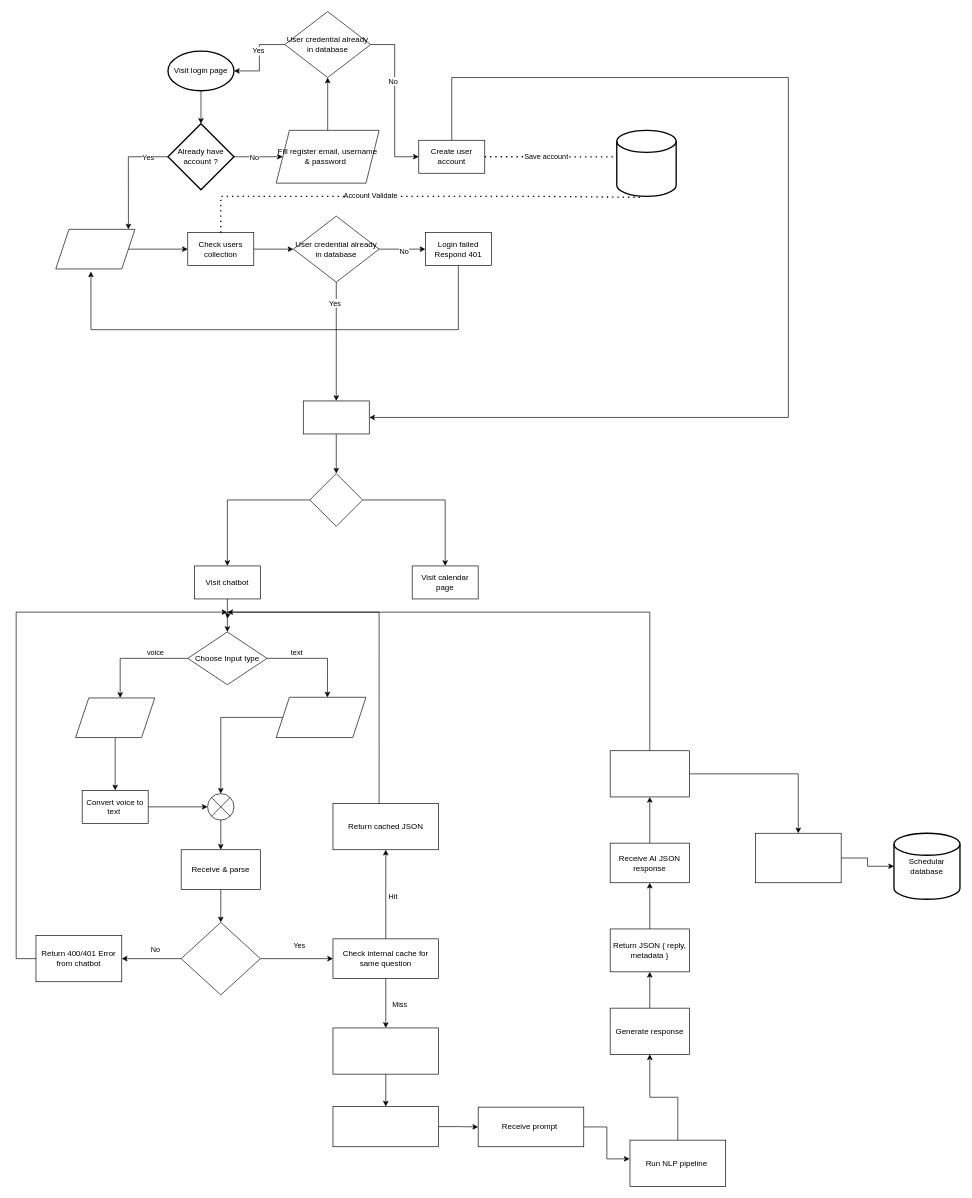
The diagram is 972 pixels wide and 1198 high, and some of its shapes have lost their labels. The shapes that lost their labels are listed below. From the top down, each one's box as (x1, y1, x2, y2) in pixels, then its label:
(616, 129, 676, 197): Users database
(55, 229, 135, 269): Enter email & password
(303, 400, 369, 434): Navigate to Home page
(309, 473, 363, 526): Choose services
(75, 697, 155, 738): Record user voice
(276, 697, 366, 738): Input the command
(610, 750, 689, 797): Log conversation
(755, 833, 841, 883): Insert/Update conversation record
(181, 922, 260, 995): Validate JSON ?
(332, 1027, 439, 1074): Build prompt (with history, user info, etc.)
(332, 1106, 439, 1147): Call AI Service (send prompt)
